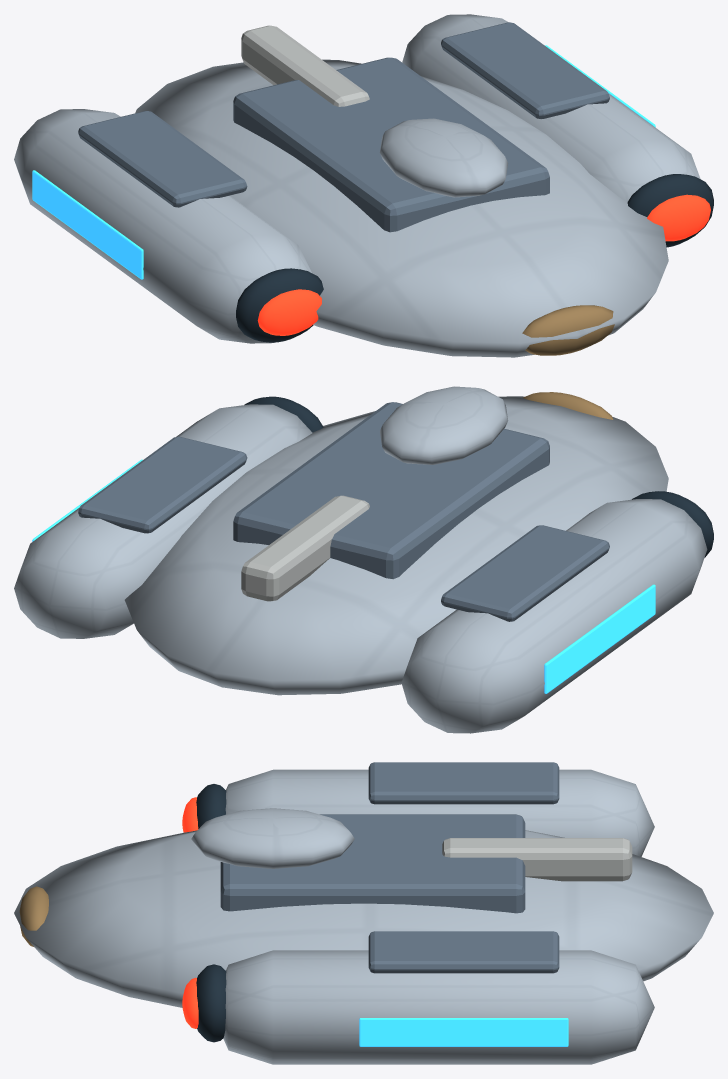
Rendered from Escort_Runtime_LOD2.fbx.
The picture shows the model from 3 angles, top to bottom: view 1: azimuth 30°, elevation 25°; view 2: azimuth 150°, elevation 25°; view 3: azimuth 270°, elevation 25°; orthographic projection. The views are drawn at different scales.
Visible parts, largest first — view 1: Escort_LOD2; view 2: Escort_LOD2; view 3: Escort_LOD2.
Part boxes in pixels (x1=…): Escort_LOD2: x1=14, y1=14, x2=713, y2=357; Escort_LOD2: x1=14, y1=386, x2=713, y2=733; Escort_LOD2: x1=14, y1=762, x2=713, y2=1064.
Size of the model in its own units: 13788 by 3974 by 17000.
1 material, 1 textured.
